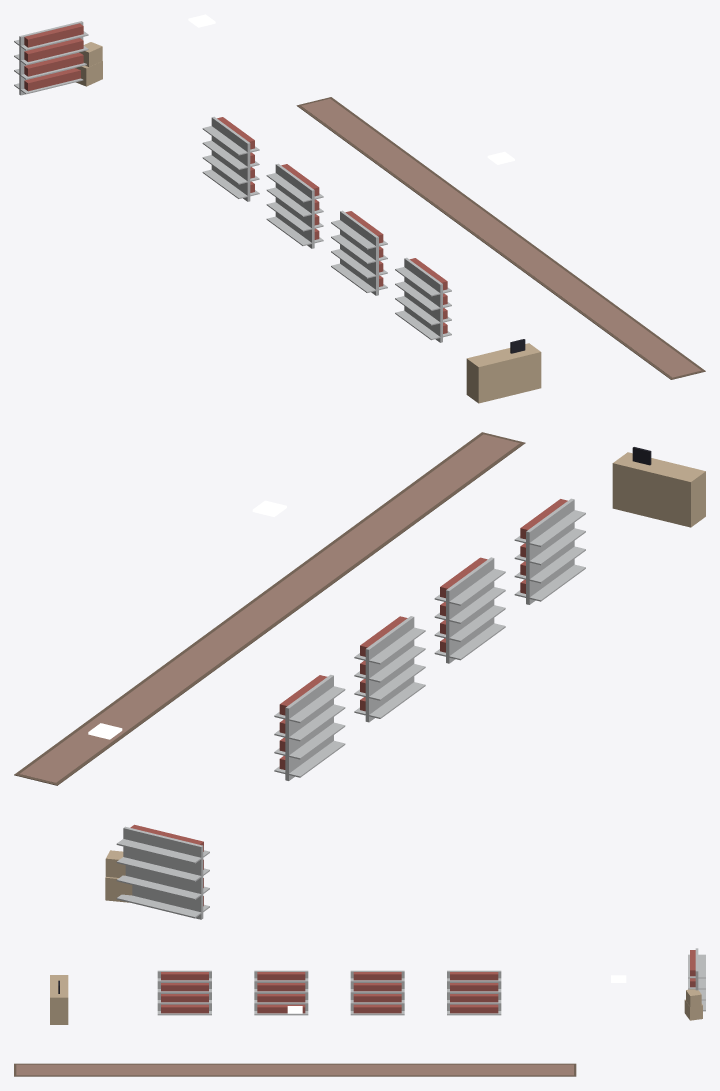
File: fine-s0.glb
3 views of the same model, one above another, from view 1: azimuth 30°, elevation 25°; view 2: azimuth 150°, elevation 25°; view 3: azimuth 270°, elevation 25° (orthographic). The views are drawn at different scales.
Visible parts, largest first — view 1: soft-s0, shelving.000, shop-counter.000, shelf.001, shelf.002, shelf.000, shelf.003, cardboard-box.000; view 2: soft-s0, shelving.000, shop-counter.000, shelf.001, shelf.000, shelf.002, shelf.003, cardboard-box.000; view 3: soft-s0, shelf.000, shelf.001, shelf.003, shelf.002, shop-counter.000, shelving.000, cardboard-box.000.
Boxes of the visible parts, x1,y1,x2,y2 form: soft-s0: (296,97,705,379); shelving.000: (14,21,88,95); shop-counter.000: (466,339,541,403); shelf.001: (266,163,323,248); shelf.002: (331,210,387,295); shelf.000: (202,116,259,201); shelf.003: (395,257,451,342); cardboard-box.000: (75,42,102,86); soft-s0: (14,432,525,785); shelving.000: (116,824,209,919); shop-counter.000: (612,447,705,527); shelf.001: (354,616,425,722); shelf.000: (274,674,345,780); shelf.002: (434,557,505,663); shelf.003: (514,498,585,604); cardboard-box.000: (105,850,132,902); soft-s0: (14,1063,576,1076); shelf.000: (447,970,501,1015); shelf.001: (350,970,404,1015); shelf.003: (157,970,211,1015); shelf.002: (254,970,308,1015); shop-counter.000: (50,975,68,1024); shelving.000: (688,948,705,1011); cardboard-box.000: (684,989,702,1020).
Bounding box in the file's own units: 6.65 × 2.24 × 22.98.
